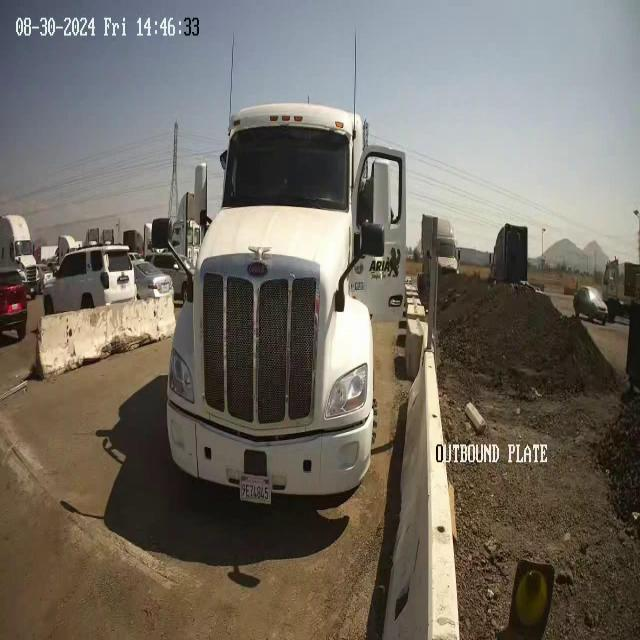TRUCK_OUT: (165, 30, 407, 507)
